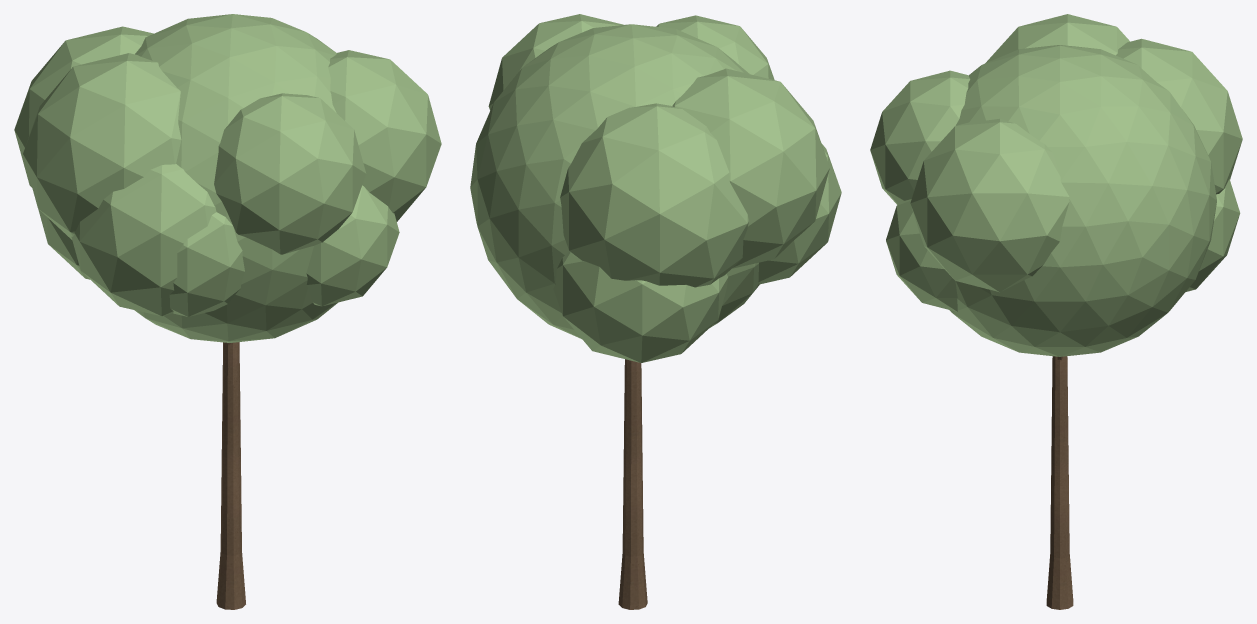
Rendered from tree.glb.
3 renders of one model, left to right at view 1: azimuth 30°, elevation 25°; view 2: azimuth 150°, elevation 25°; view 3: azimuth 270°, elevation 25°, orthographic. The views are drawn at different scales.
Visible parts, largest first — view 1: tree_leaf, tree_bark; view 2: tree_leaf, tree_bark; view 3: tree_leaf, tree_bark.
Boxes of the visible parts, x1,y1,x2,y2 form: tree_leaf: (14, 14, 441, 342); tree_bark: (216, 342, 245, 609); tree_leaf: (470, 14, 841, 362); tree_bark: (618, 359, 647, 609); tree_leaf: (870, 14, 1242, 356); tree_bark: (1046, 356, 1073, 609).
Bounding box in the file's own units: 4.97 × 7.66 × 4.74.
2 materials, 1 textured.
